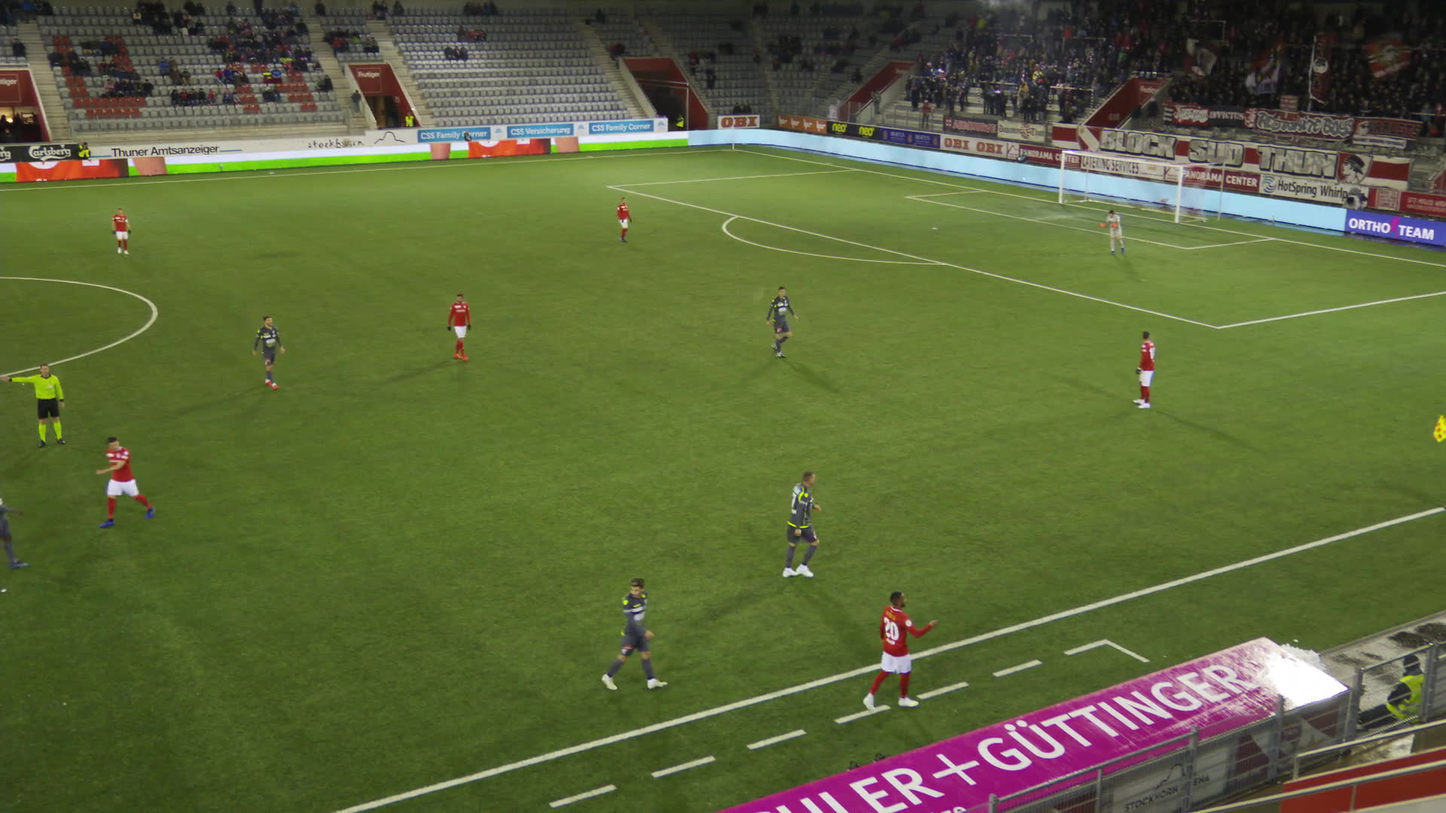player: (871, 588, 937, 711), (609, 574, 664, 693), (781, 471, 824, 582), (96, 434, 148, 525), (761, 285, 799, 358), (252, 314, 284, 390), (0, 492, 29, 571), (1130, 330, 1157, 410), (447, 291, 473, 360), (1097, 209, 1126, 254), (110, 207, 132, 254), (612, 197, 633, 243)
referee: (2, 361, 66, 447)
